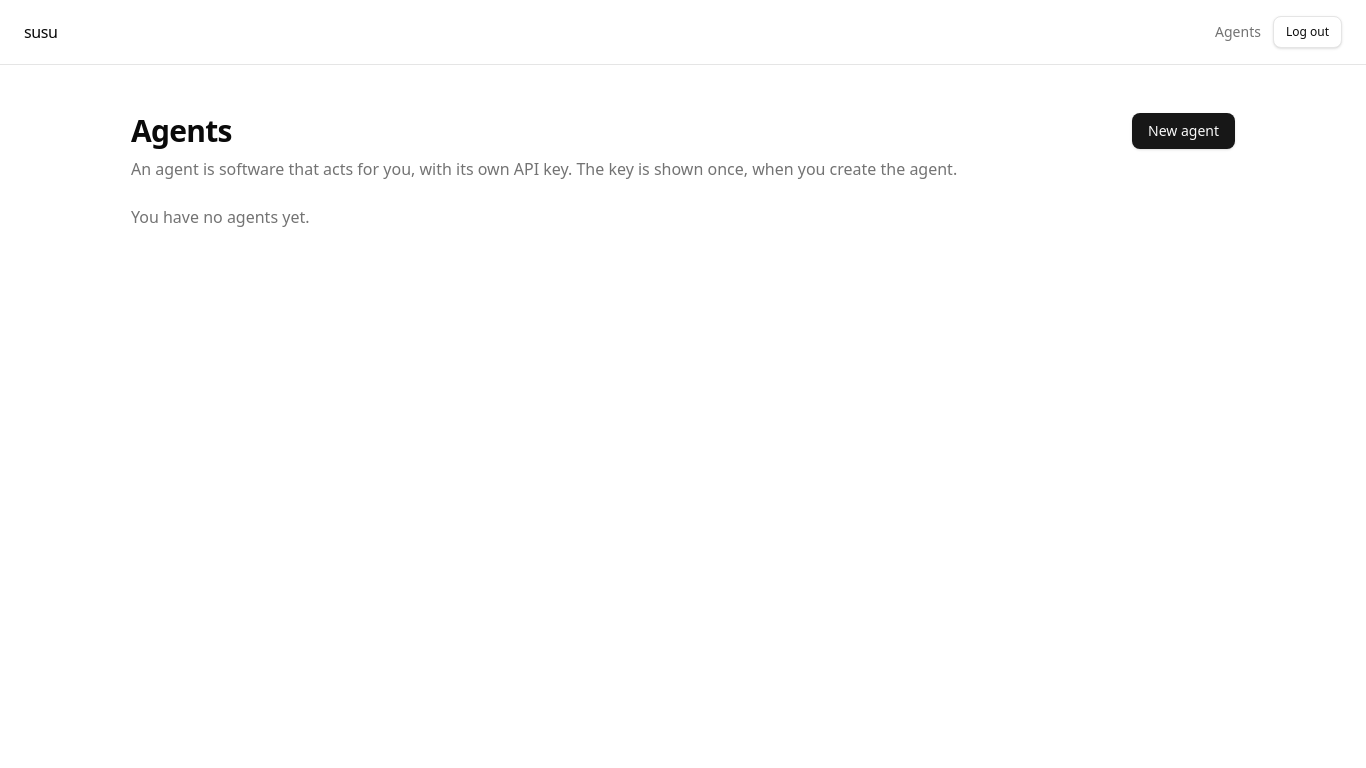
Test case: create › creating into an empty list works
This screenshot has width=1366, height=768.
Expected: the text "You have no agents yet." is shown, [131,206,310,228]
Click the button "New agent" at (1184, 131), box [1132,113,1235,149]
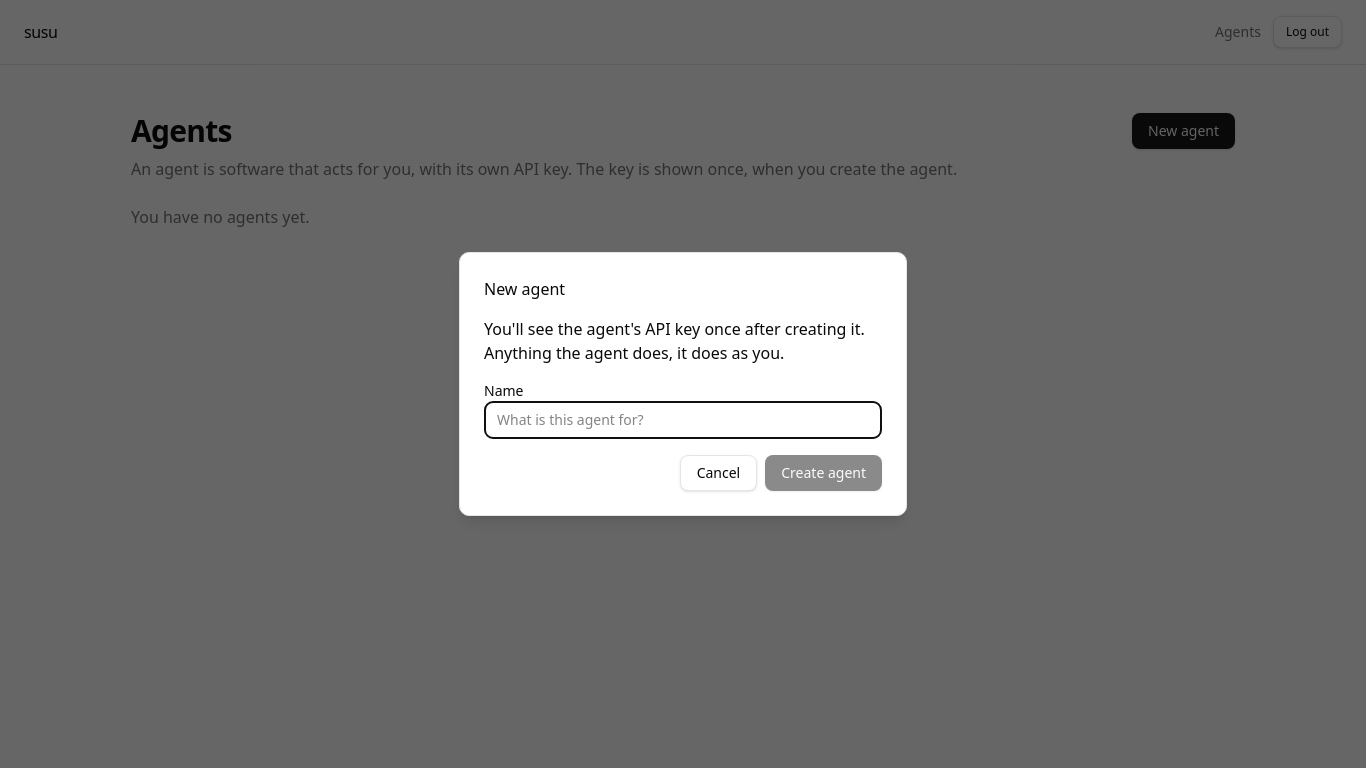
Type "First" into the field labelled "Name" at (683, 420), box [484,401,882,439]
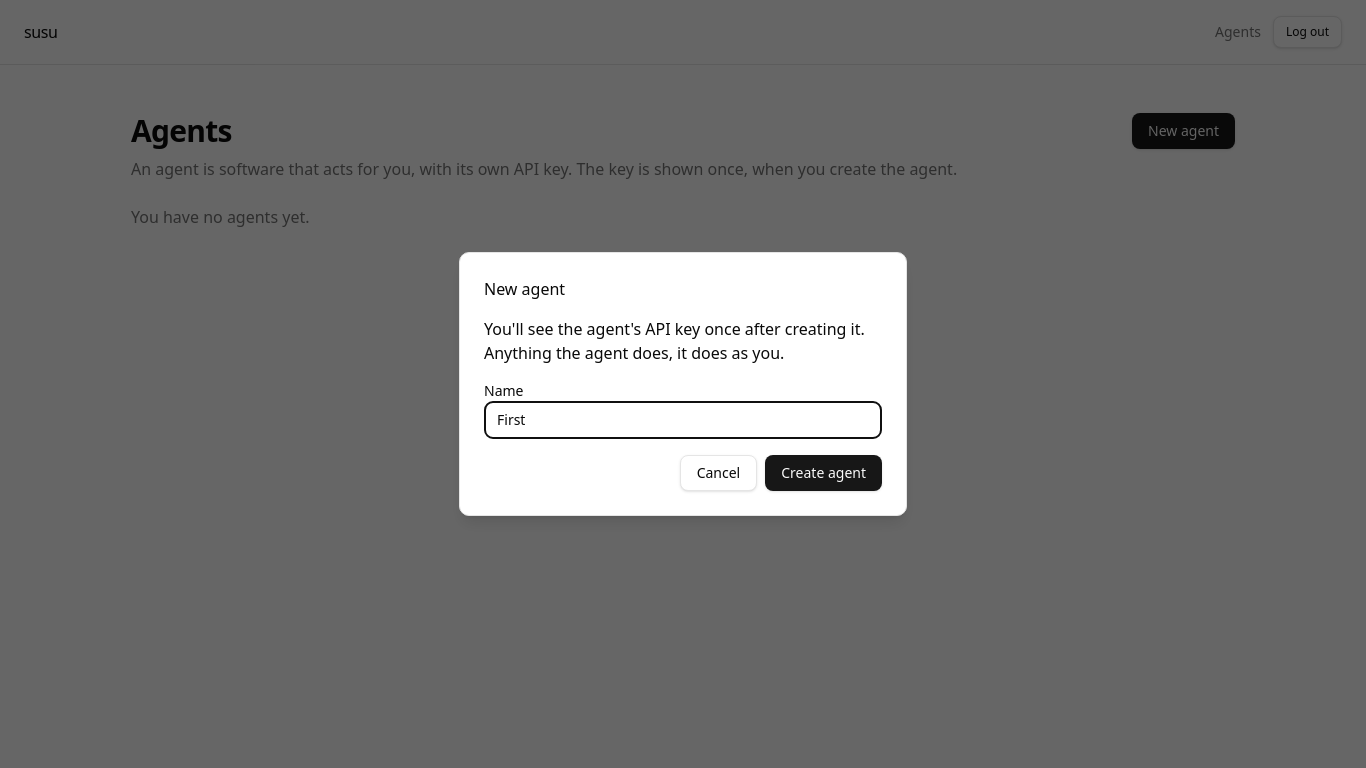
Click the button "Create agent" at (824, 473), box [765,455,882,491]
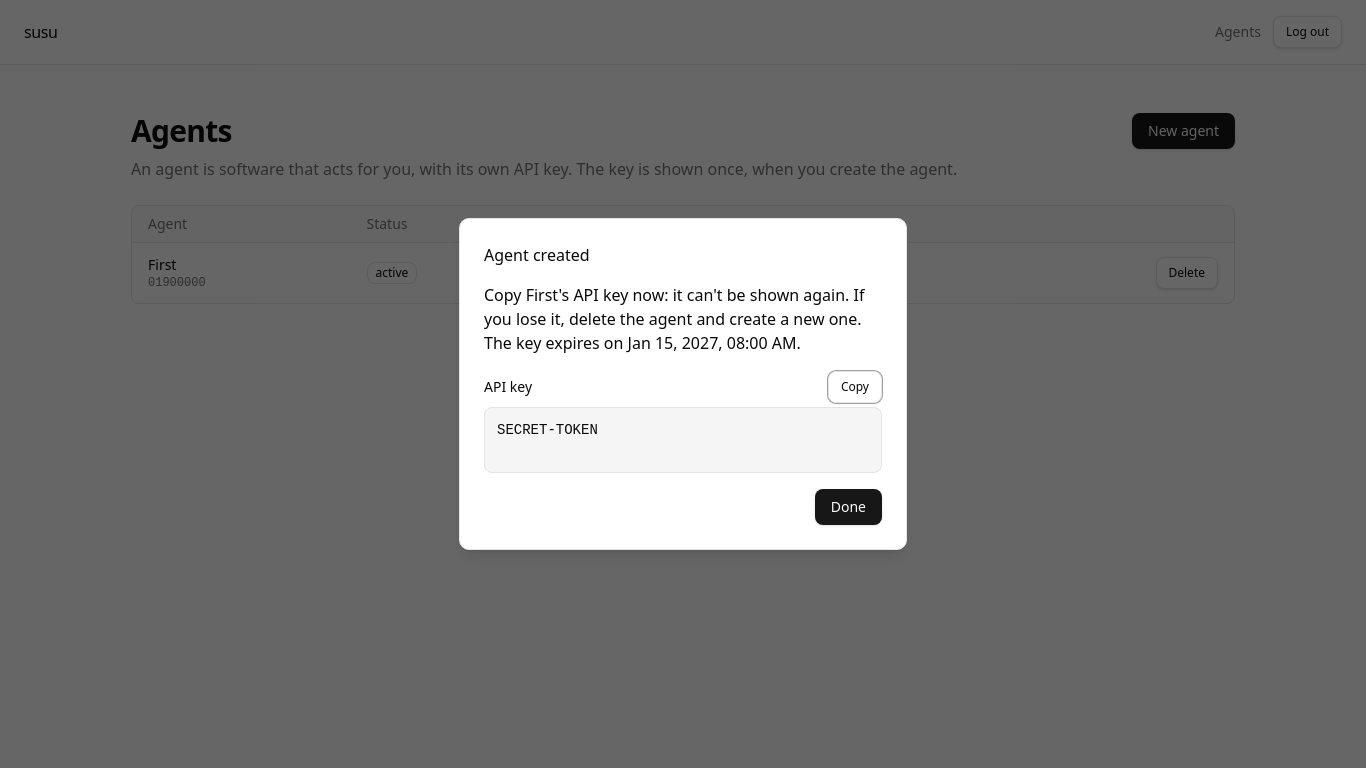
Now the dialog "Agent created" is shown, box [459,218,907,550]
Now the text "First" is shown, box [148,255,176,274]
